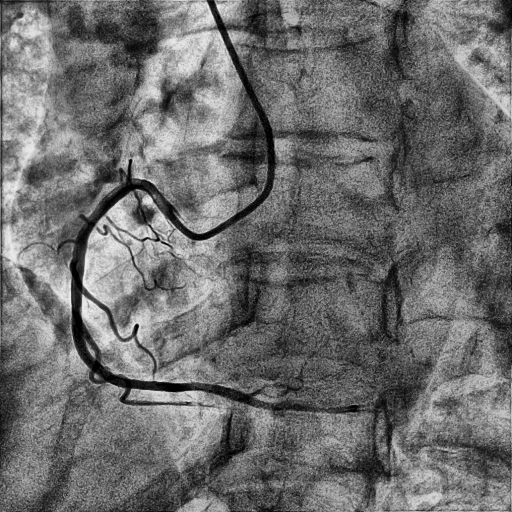pda: (246, 396, 372, 414)
rca: (71, 177, 249, 403)
